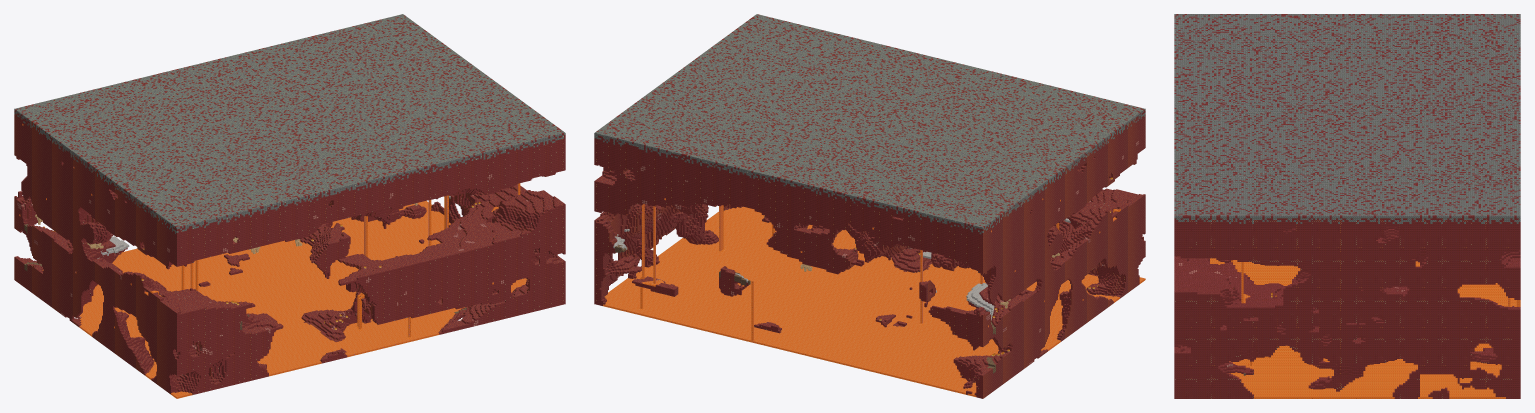
File: minecraft_nether.glb
3 renders of one model, left to right at view 1: azimuth 30°, elevation 25°; view 2: azimuth 150°, elevation 25°; view 3: azimuth 270°, elevation 25°, orthographic. The views are drawn at different scales.
Visible parts, largest first — view 1: Object_2, Object_6; view 2: Object_2, Object_6; view 3: Object_2, Object_6.
Part boxes in pixels (left/top/right/bottom): Object_2: left=14, top=14, right=565, bottom=394; Object_6: left=19, top=124, right=527, bottom=398; Object_2: left=594, top=14, right=1145, bottom=398; Object_6: left=603, top=198, right=1145, bottom=396; Object_2: left=1174, top=14, right=1520, bottom=398; Object_6: left=1210, top=258, right=1520, bottom=398.
Size of the model in its own units: 2.38 by 1 by 1.72.
5 materials, 5 textured.
